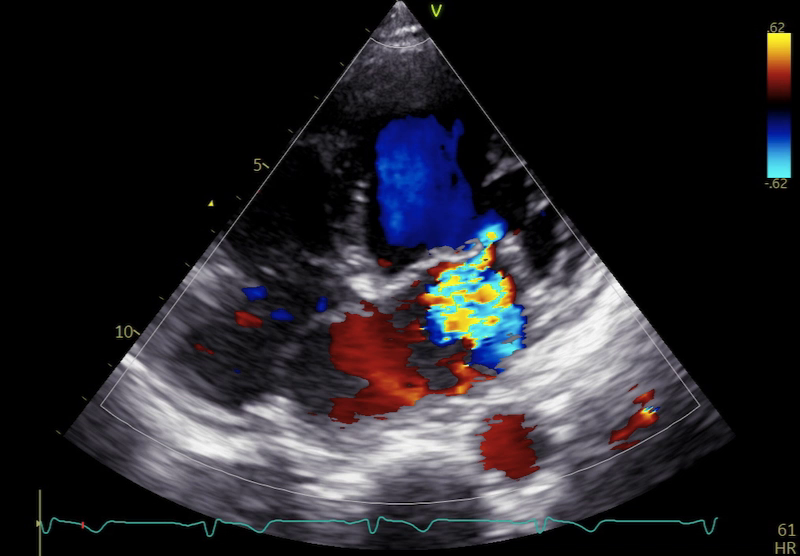MR: (384, 222, 536, 324)
